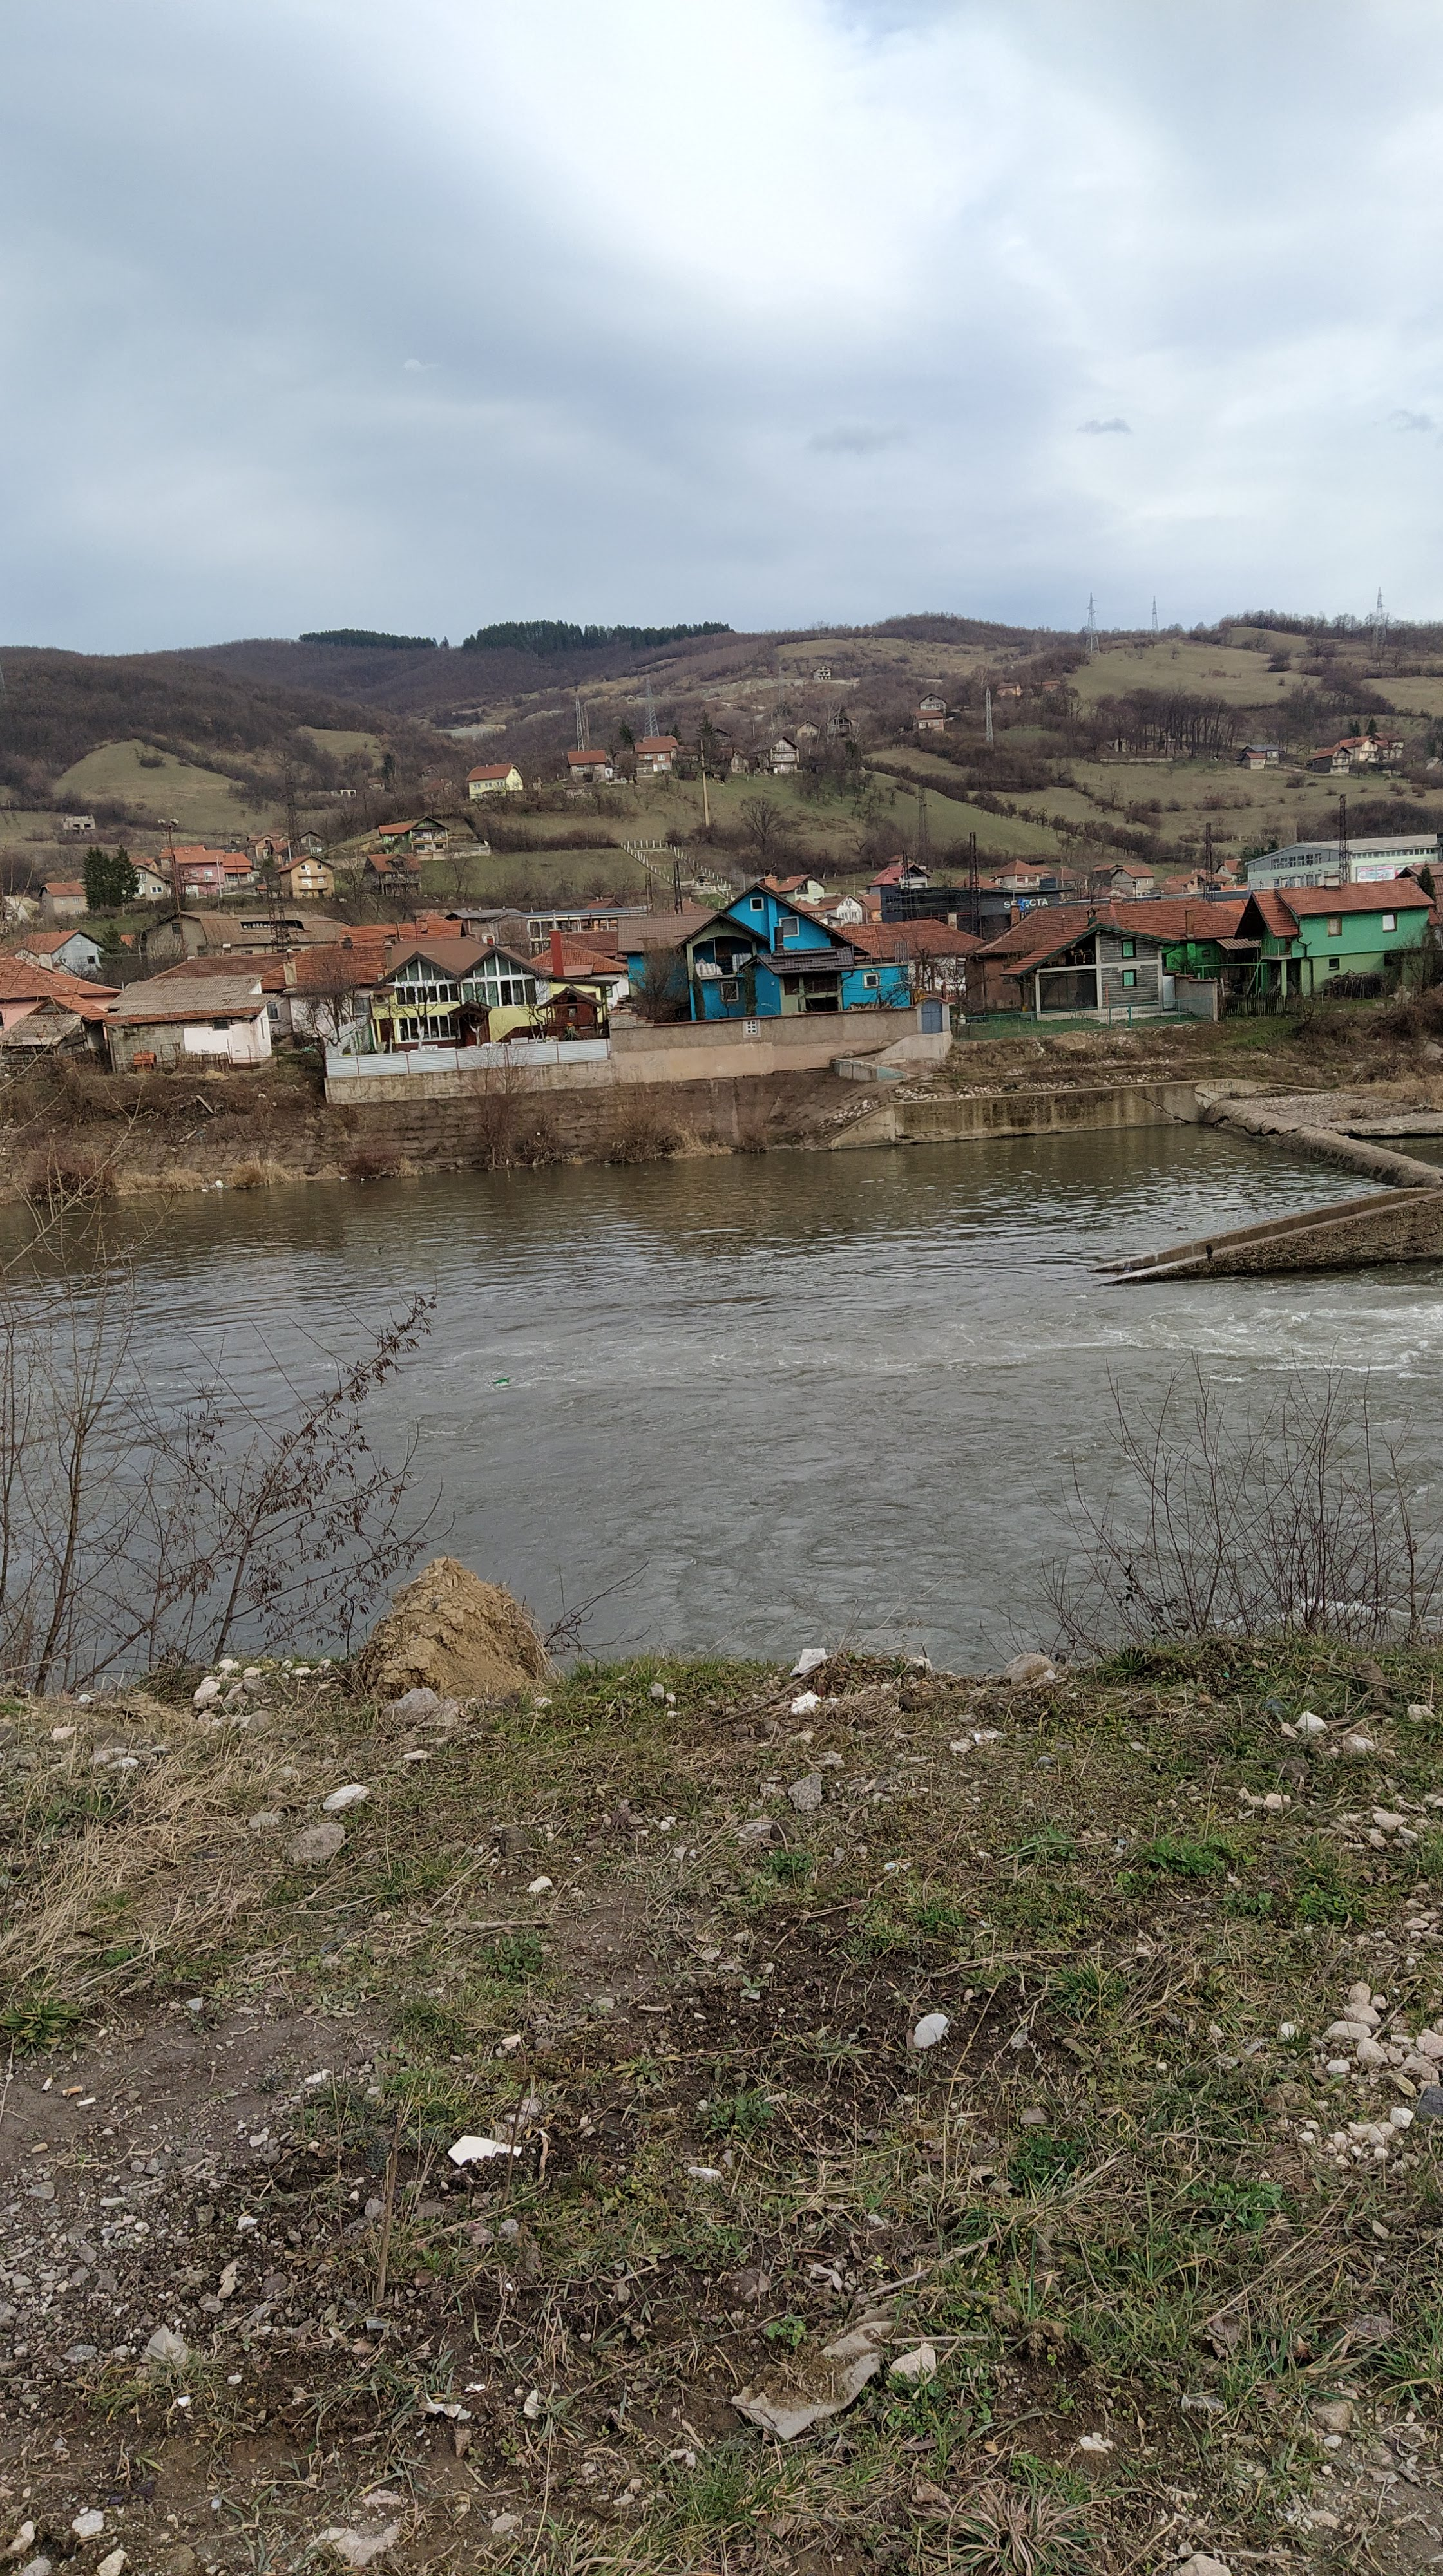Plastic Bottle: (492, 1376, 508, 1384), (340, 1177, 345, 1180), (202, 1189, 207, 1192)
